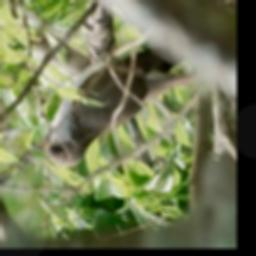Cuckoo: (32, 44, 203, 170)
